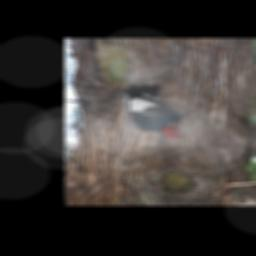Woodpecker: (117, 83, 196, 141)
